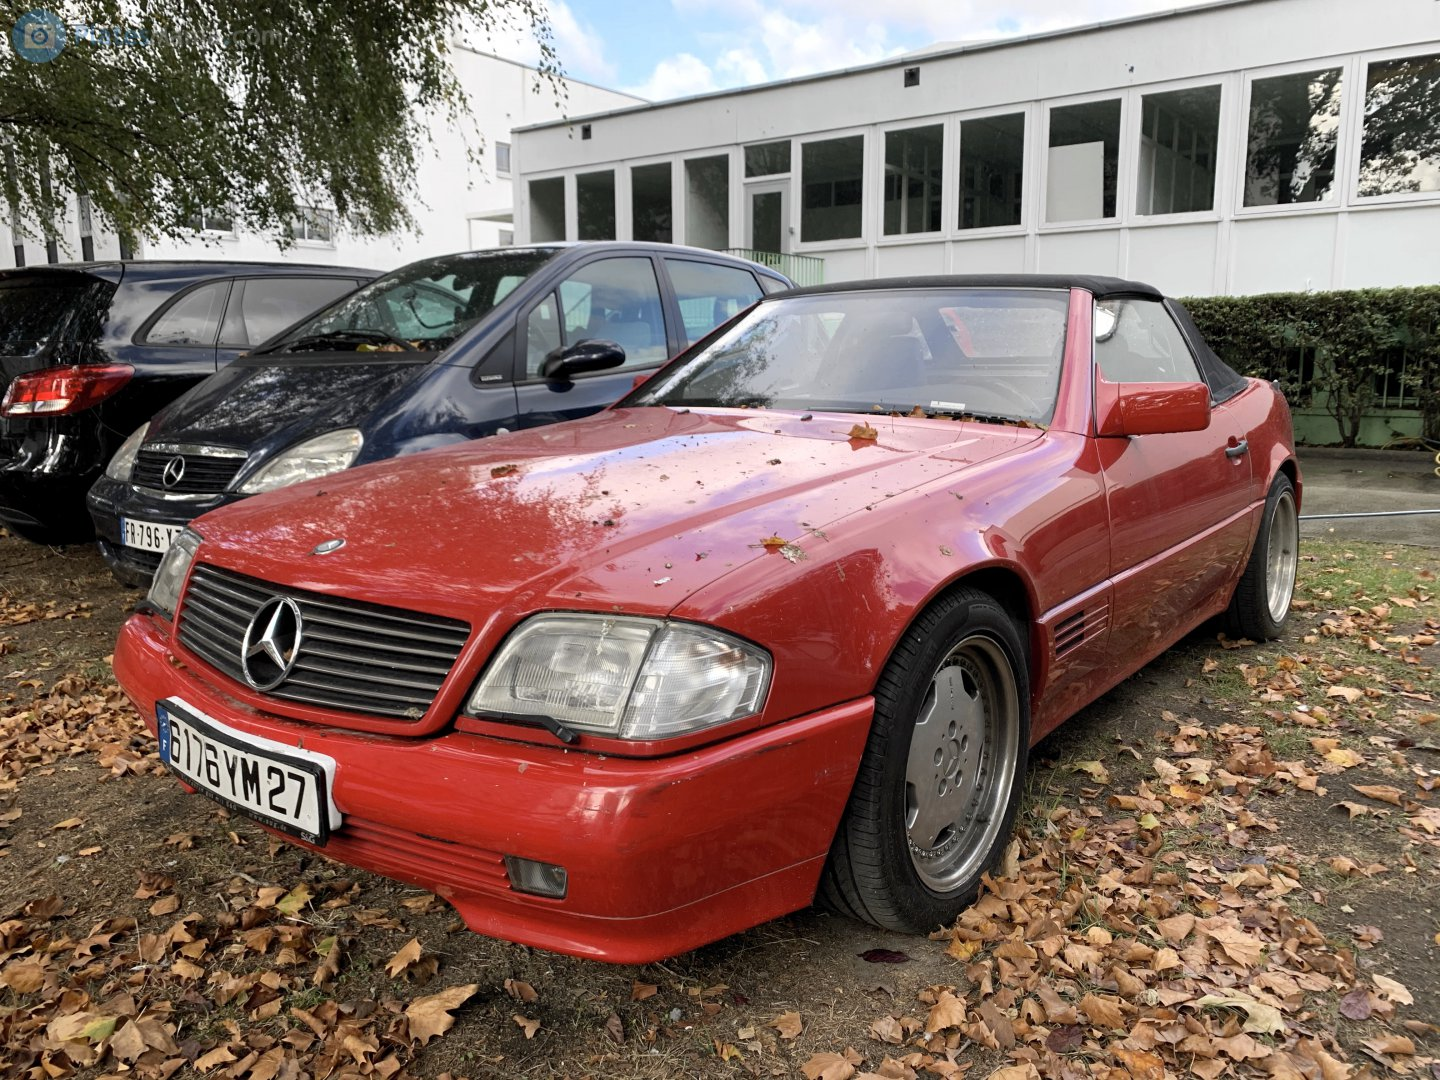licence plate: (152, 697, 332, 846)
